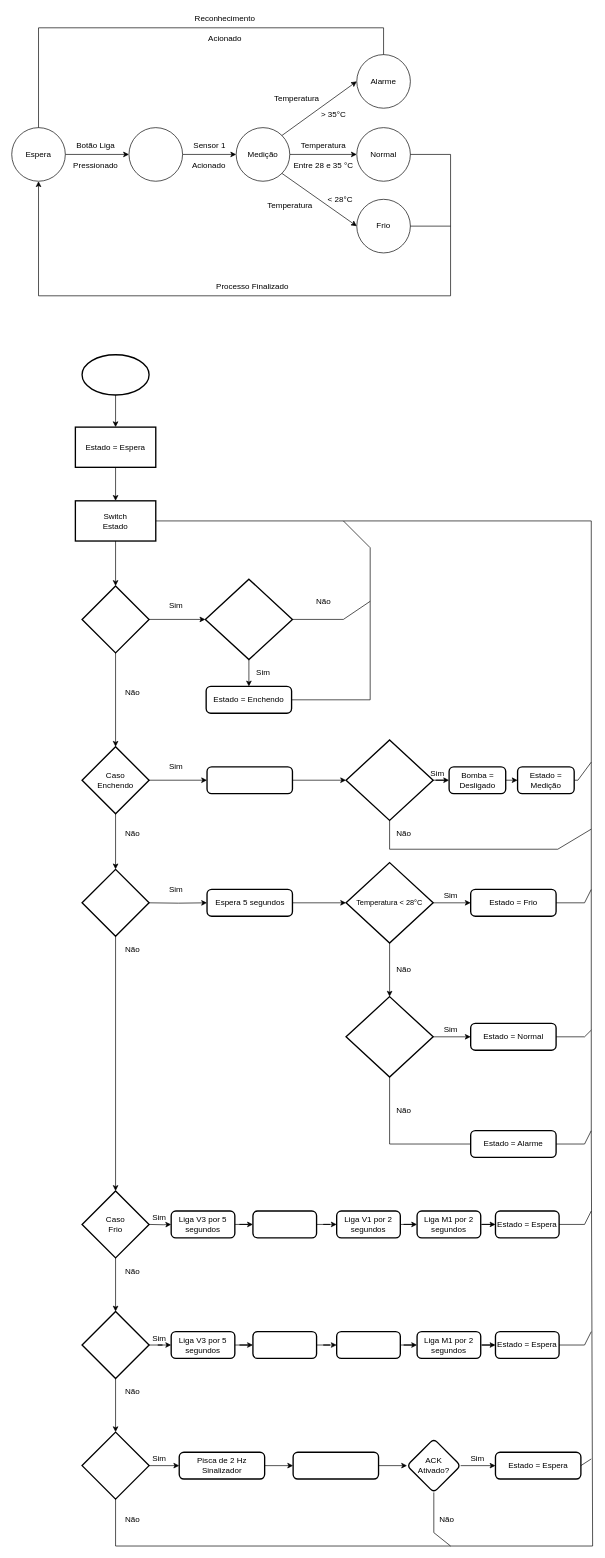
Some shapes in this 605 by 1558 pixel diagram are drawn without their labels. Each missing label, with the centre of its shape:
B1 = Ligado: point 249,780
Botão Liga está Pressionado?: point 248,619
Buzzer = Acionado: point 335,1465
Caso Alarme: point 115,1465
Caso Espera: point 115,619
Caso Medição: point 115,902
Caso Normal: point 115,1345
Enchendo: point 155,154
Início: point 115,374
Liga M1 por 3 segundos: point 284,1345
Liga M1 por 4 segundos: point 284,1224
Liga V1 por 4 segundos: point 368,1345
S1 Acionado?: point 389,780
Temperatura < 35°C: point 389,1036
